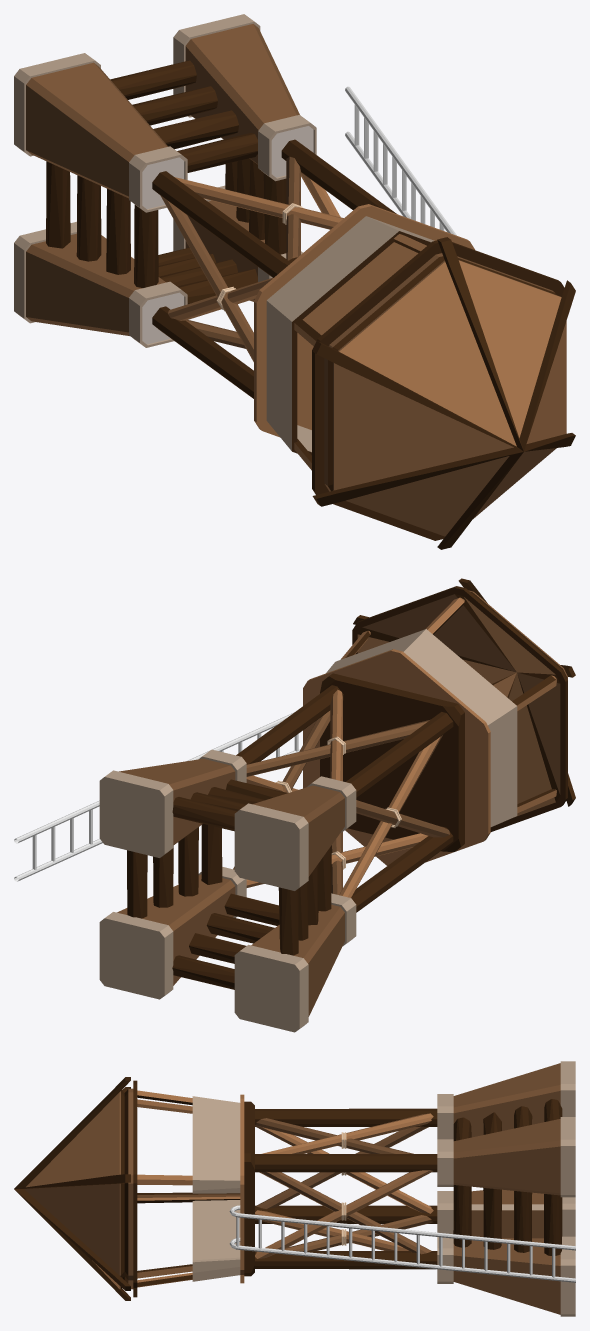
The model's file is watch+tower03.fbx.
3 views of the same model, one above another, from view 1: azimuth 30°, elevation 25°; view 2: azimuth 150°, elevation 25°; view 3: azimuth 270°, elevation 25° (orthographic). The views are drawn at different scales.
Parts seen in each view (by area): view 1: watch_tower03; view 2: watch_tower03; view 3: watch_tower03.
Part boxes in pixels (x1,y1,x2,y2): watch_tower03: (14,14,575,549); watch_tower03: (14,578,575,1032); watch_tower03: (14,1061,575,1316).
Bounding box in the file's own units: 10.01 × 8.44 × 19.52.
